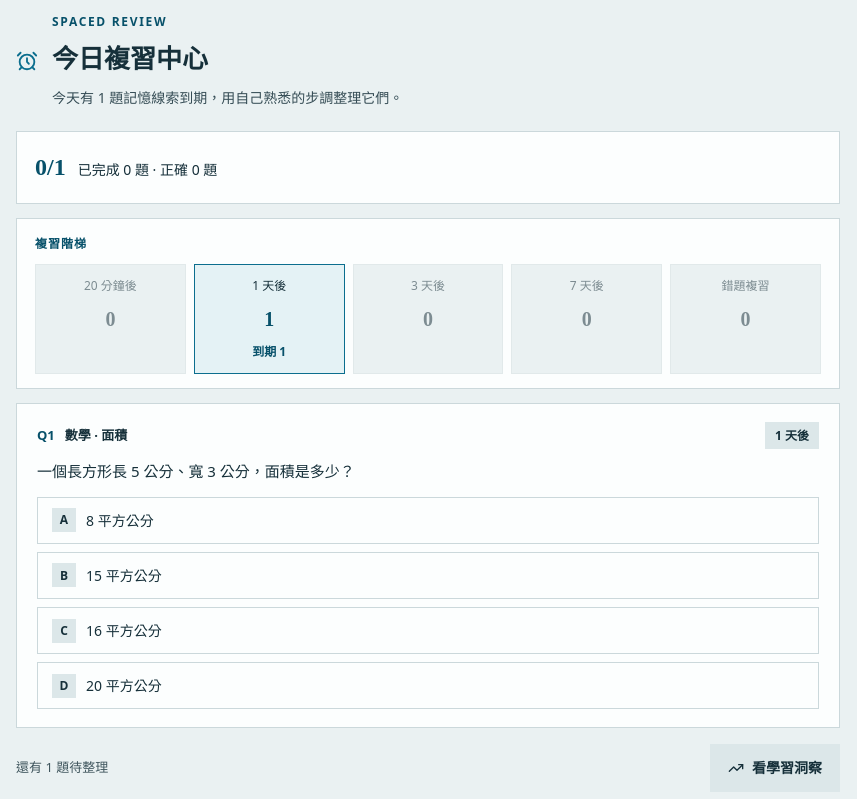
Test: 今日複習中心 › 答錯時顯示解析，結算後提供錯題魔王入口並重設間隔
This screenshot has width=857, height=799.
Click the button "A 8 平方公分".
click(120, 520)  # box left=37, top=497, right=819, bottom=544
(page scrolled)
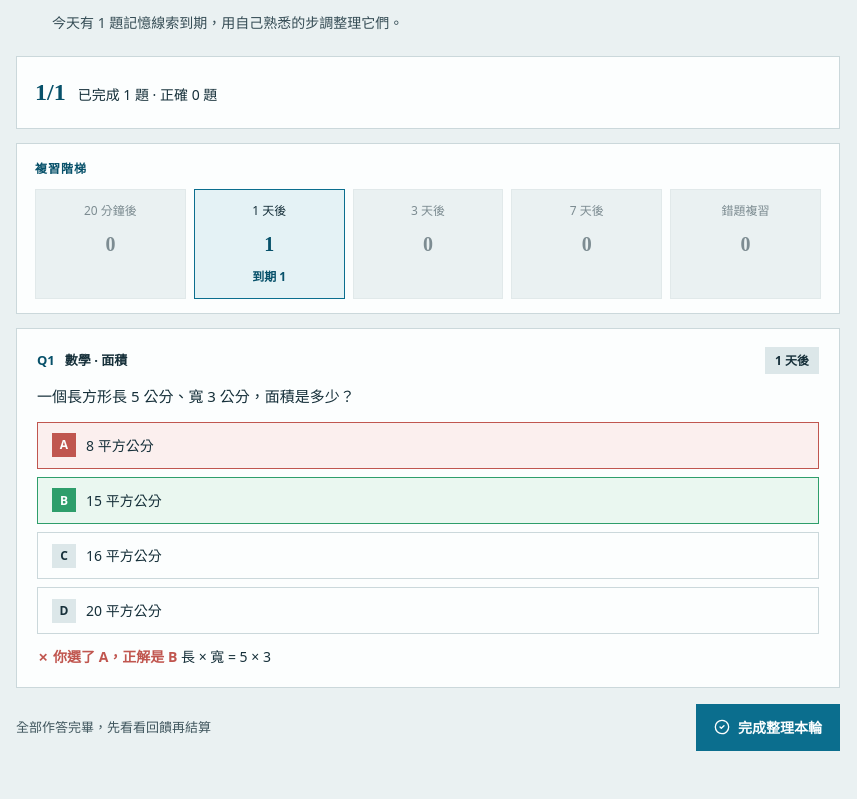
Expected: the text "✗ 你選了 A，正解是 B 長 × 寬 = 5 × 3" is shown, left=37, top=647, right=271, bottom=666
Expected: the text "長 × 寬 = 5 × 3" is shown, left=177, top=647, right=271, bottom=666
Click the button "完成整理本輪".
click(768, 727)  # box left=696, top=704, right=840, bottom=751
(page scrolled)
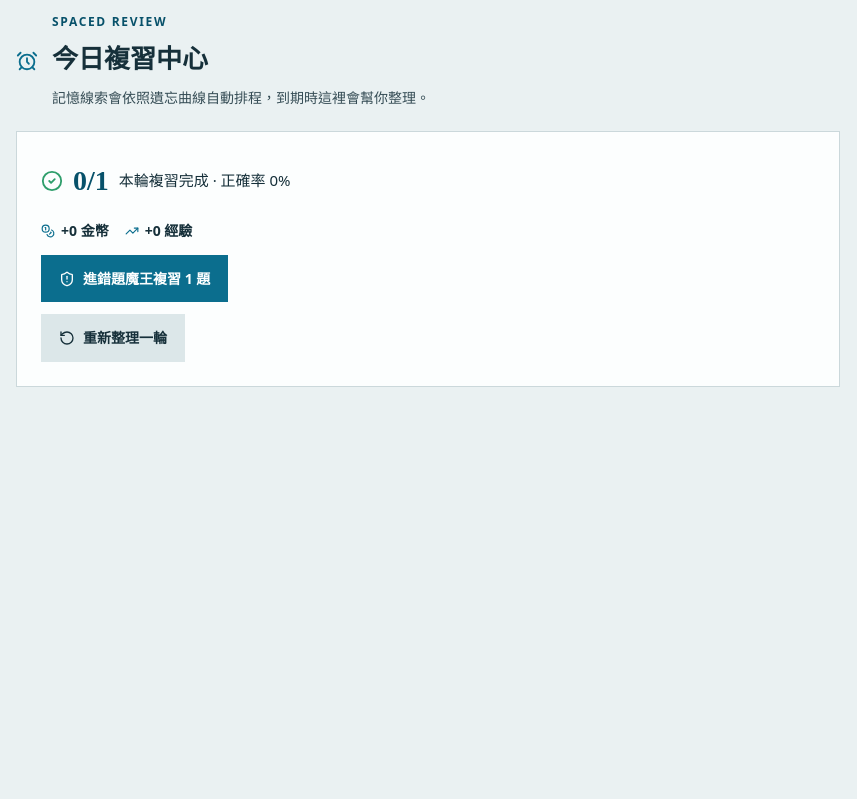
Expected: the button "進錯題魔王複習 1 題" is shown, left=41, top=255, right=228, bottom=302
